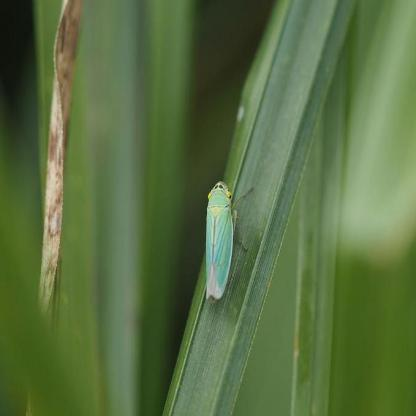Green-Leafhopper: (200, 180, 253, 302)
